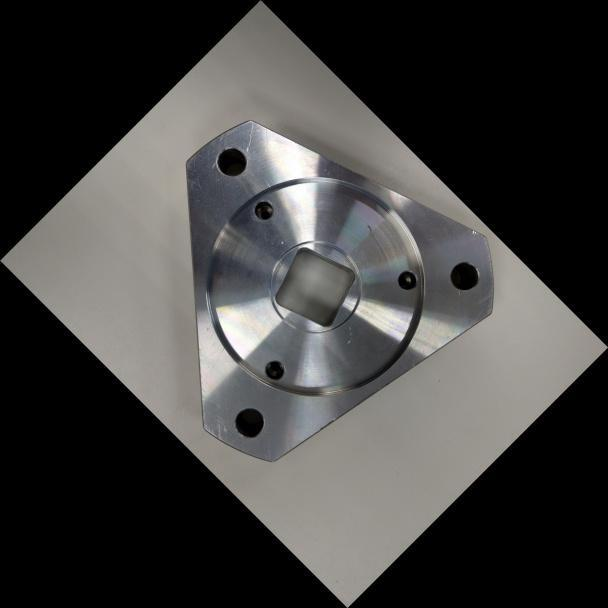hole: (208, 138, 254, 185), (226, 399, 272, 445), (442, 253, 487, 298), (247, 194, 279, 226), (258, 354, 290, 385), (391, 265, 423, 296)
